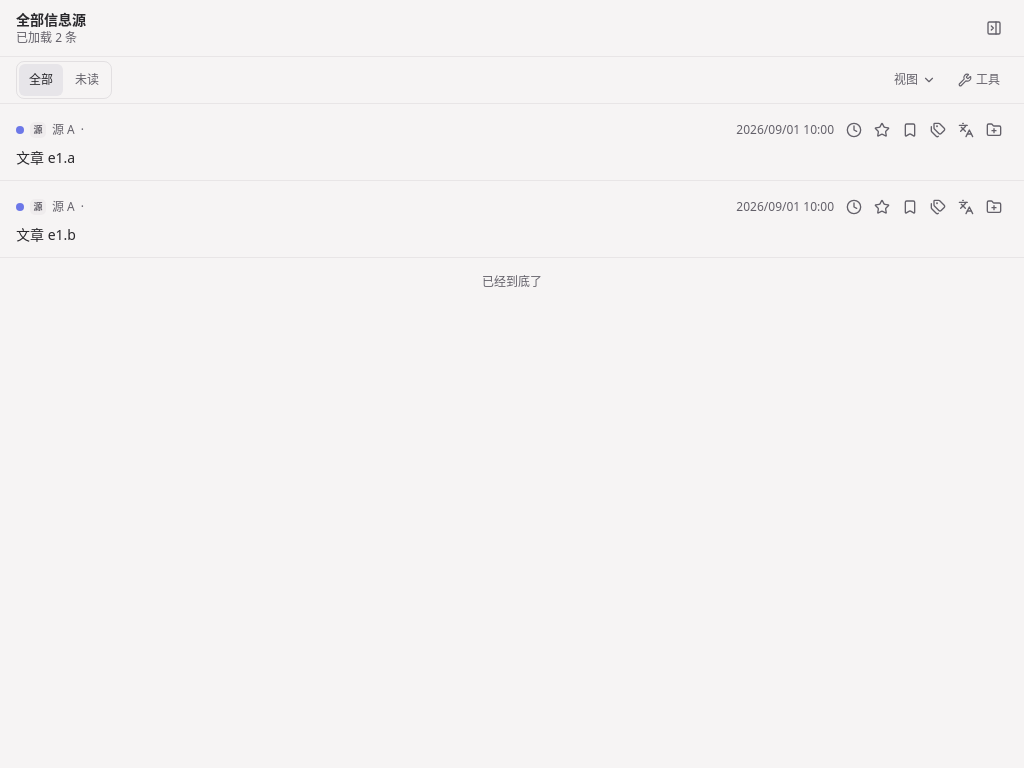
Test case: R11 顶栏 — 工具按钮打开唯一抽屉 › 「工具」打开 DetailDrawer（标题「工具」），六工具分三组全在
Click the button with test id "tools-drawer-open": (979, 80) [950,64,1008,96]
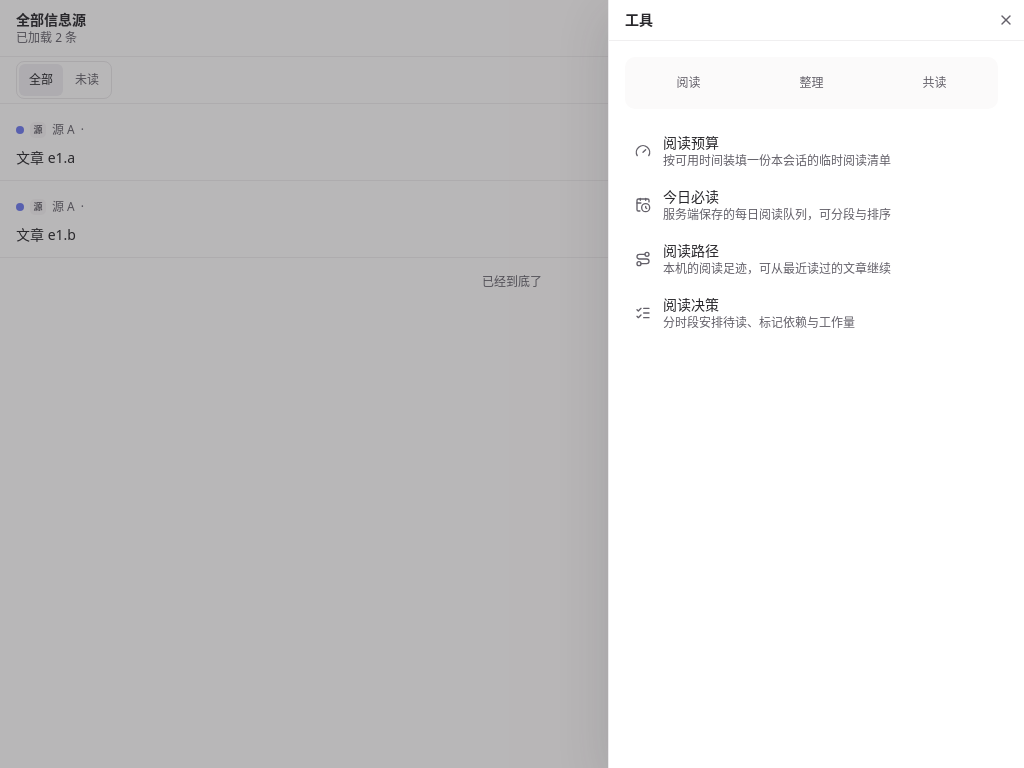
Expected: the element named "工具分组" is shown, [625,57,998,109]
Click the tab "整理": (812, 83) [752,61,871,105]
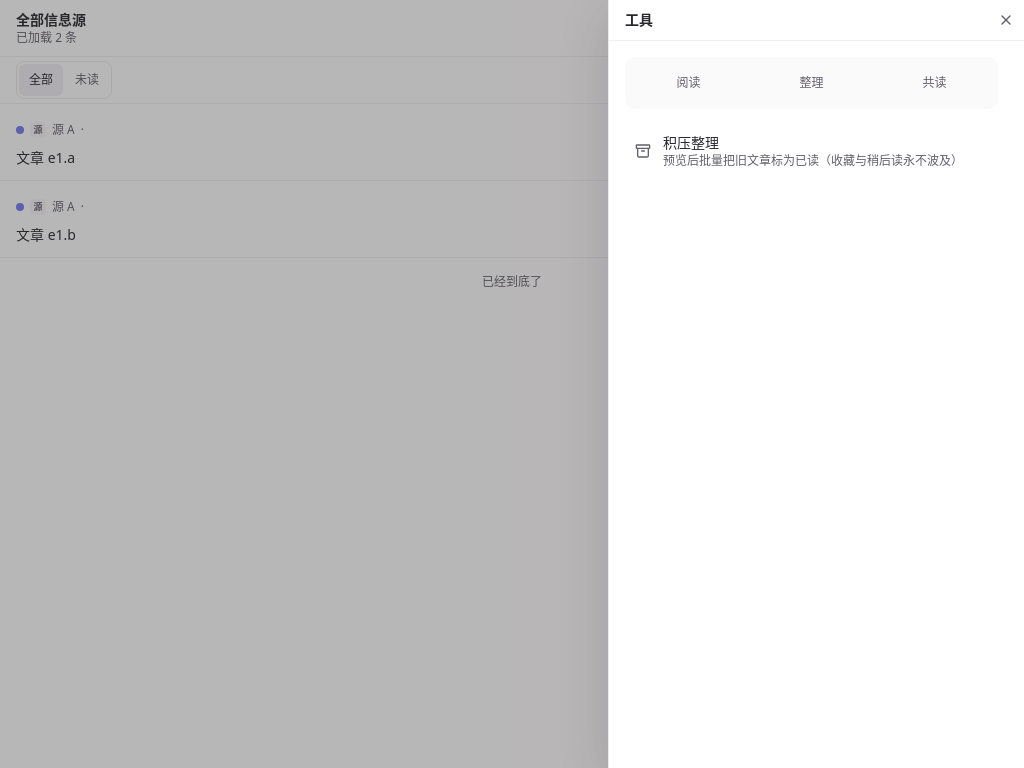
Expected: the button with test id "tools-drawer-item-backlog" is shown, [625,125,998,177]
Click the tab "共读": (934, 83) [875,61,994,105]
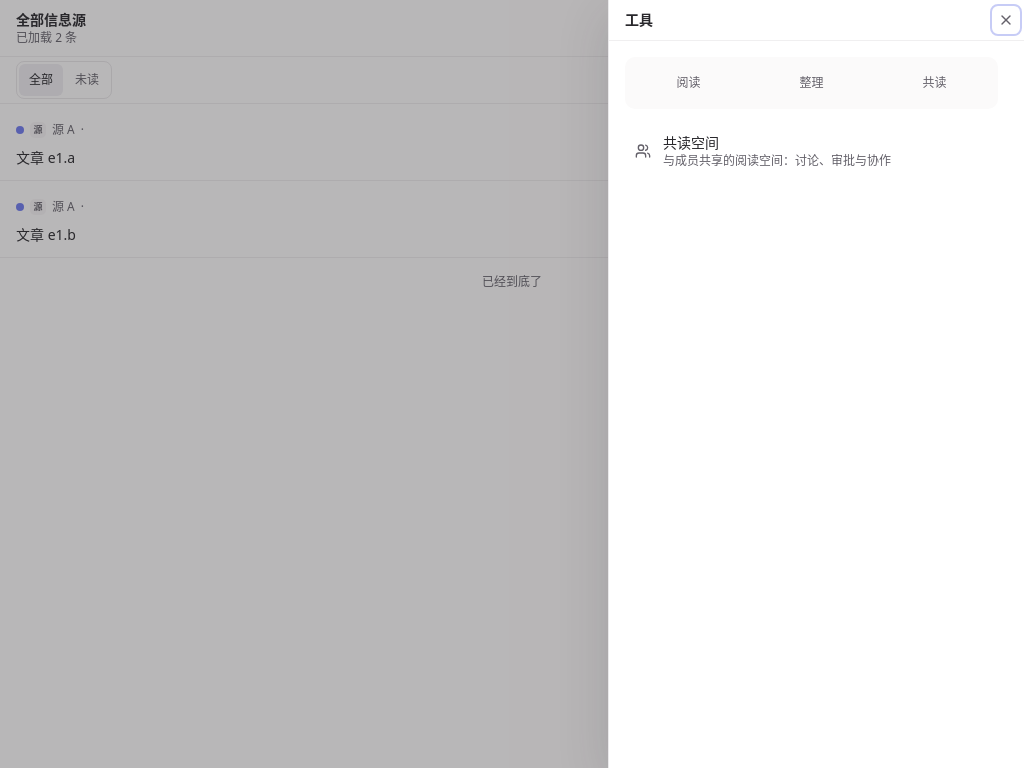
Expected: the button with test id "tools-drawer-item-space" is shown, [625,125,998,177]
